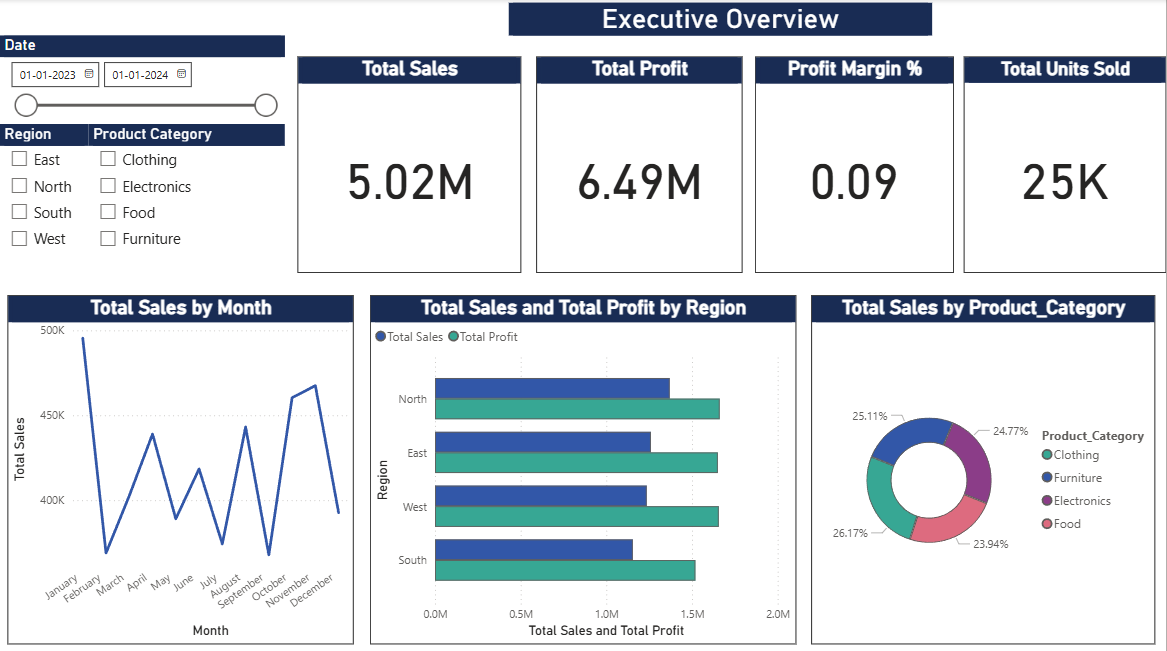

The dashboard page shown, as its layout file describes it:
{"tool":"powerbi","page":{"name":"Executive Overview","canvas":[1280,720],"ordinal":0},"visuals":[{"type":"card","title":"Total Sales","fields":{"Values":["sales_data.Total Sales"]},"box":[326.6,63.1,245.6,237.4],"z":0},{"type":"card","title":"Total Profit","fields":{"Values":["sales_data.Total Profit"]},"box":[588.7,63.1,226.4,237.4],"z":1000},{"type":"card","title":"Profit Margin %","fields":{"Values":["sales_data.Profit Margin %"]},"box":[828.8,63.1,218.2,237.4],"z":2000},{"type":"card","title":"Total Units Sold","fields":{"Values":["sales_data.Total Units Sold"]},"box":[1058,63.1,222.3,237.4],"z":3000},{"type":"donutChart","fields":{"Category":["sales_data.Product_Category"],"Y":["sales_data.Total Sales"]},"box":[890.6,325.2,377.4,382.8],"z":4000},{"type":"lineChart","fields":{"Category":["sales_data.Sale_Date.Variation.Date Hierarchy.Month"],"Y":["sales_data.Total Sales"]},"box":[8.2,325.2,380.1,382.8],"z":5000},{"type":"clusteredBarChart","fields":{"Category":["sales_data.Region"],"Y":["sales_data.Total Sales","sales_data.Total Profit"]},"box":[406.2,325.2,467.9,382.8],"z":6000},{"type":"slicer","title":"Date","fields":{"Values":["sales_data.Sale_Date"]},"box":[0,39.8,312.9,97.4],"z":7000},{"type":"slicer","title":"Region","fields":{"Values":["sales_data.Region"]},"box":[0,137.2,97.4,163.3],"z":8000},{"type":"slicer","title":"Product Category","fields":{"Values":["sales_data.Product_Category"]},"box":[97.4,137.2,215.4,163.3],"z":9000},{"type":"textbox","title":"Executive Overview","box":[558.5,4.1,465.2,35.7],"z":10000}]}

Visuals, with their boxes in screenshot pixels (x1, y1, x2, y2), scaled from the page's 1280x720 canvas onto the 1167x651 screenshot:
"Total Sales" card: [298,57,522,272]
"Total Profit" card: [537,57,743,272]
"Profit Margin %" card: [756,57,955,272]
"Total Units Sold" card: [965,57,1166,272]
donutChart - sales_data.Product_Category x sales_data.Total Sales: [812,294,1156,640]
lineChart - sales_data.Sale_Date.Variation.Date Hierarchy.Month x sales_data.Total Sales: [7,294,354,640]
clusteredBarChart - sales_data.Region x sales_data.Total Sales: [370,294,797,640]
"Date" slicer: [0,36,285,124]
"Region" slicer: [0,124,89,272]
"Product Category" slicer: [89,124,285,272]
"Executive Overview" textbox: [509,4,933,36]
